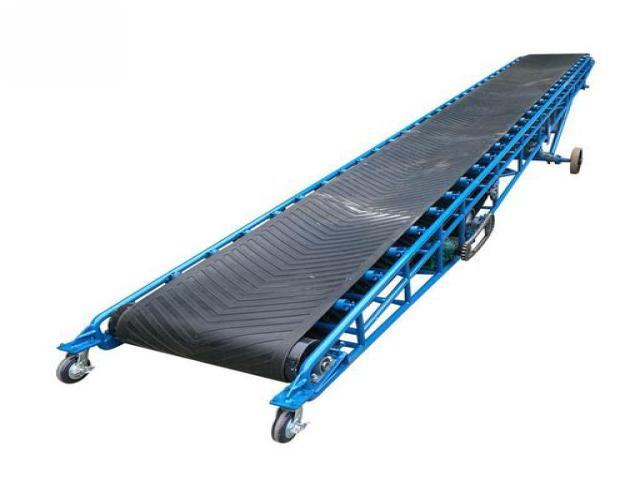conveyor: (64, 52, 588, 437)
